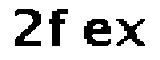2: (9, 4, 44, 51)
e: (81, 15, 113, 51)
f: (46, 7, 71, 48)
x: (116, 16, 146, 48)
